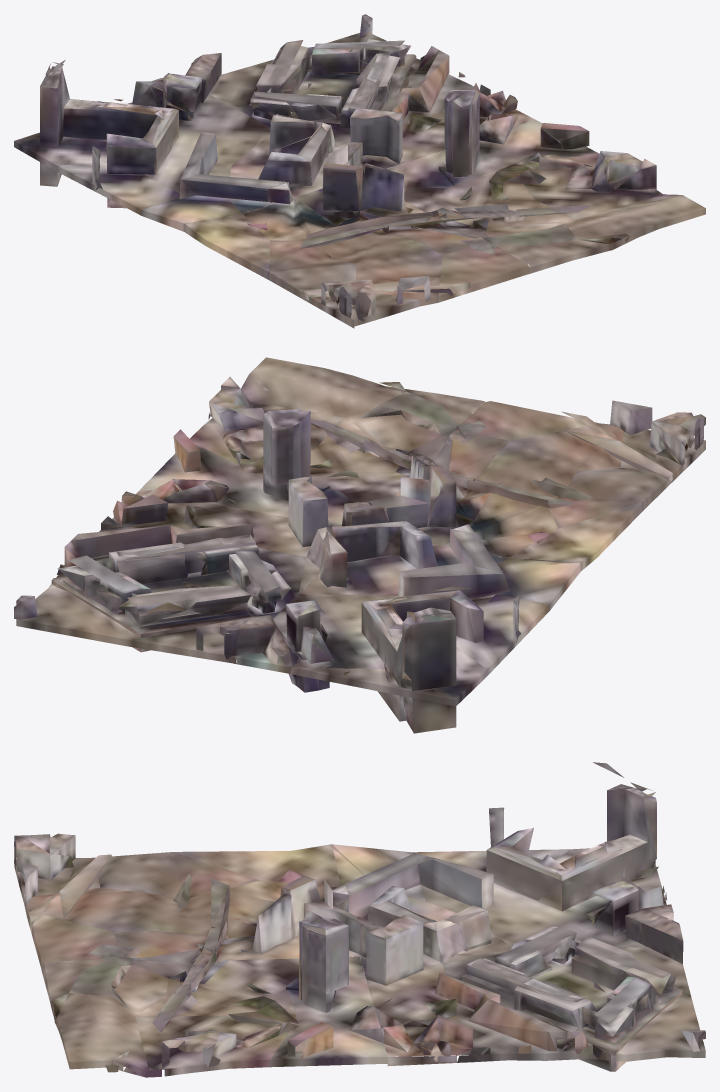
3 renders of one model, top to bottom at view 1: azimuth 30°, elevation 25°; view 2: azimuth 150°, elevation 25°; view 3: azimuth 270°, elevation 25°, orthographic. The views are drawn at different scales.
Parts seen in each view (by area): view 1: Mesh_0; view 2: Mesh_0; view 3: Mesh_0.
Part boxes in pixels (x1,y1,x2,y2): Mesh_0: [14, 14, 705, 328]; Mesh_0: [14, 357, 705, 733]; Mesh_0: [14, 762, 705, 1077].
Bounding box in the file's own units: 533 × 143 × 659.
2 materials, 2 textured.
